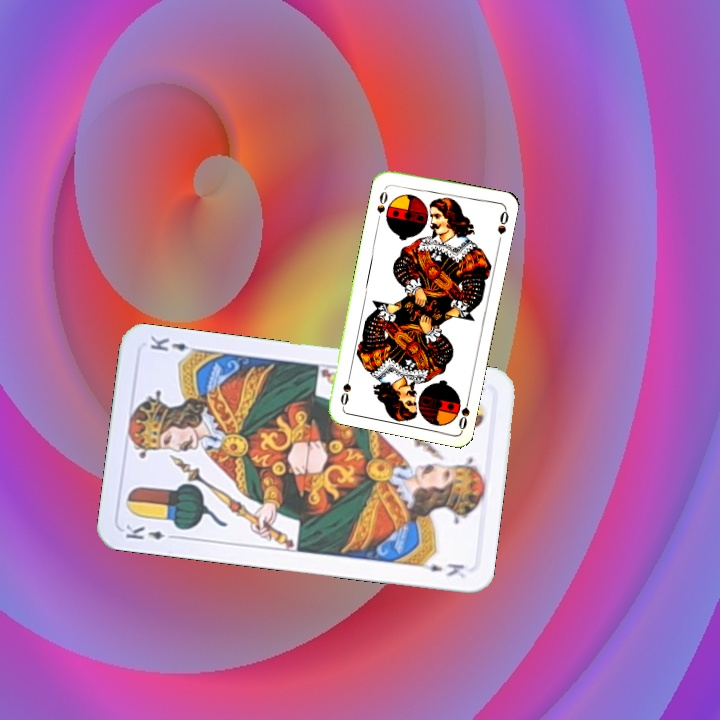EK: (121, 521, 180, 543)
SO: (454, 391, 473, 432), (373, 187, 390, 216)
